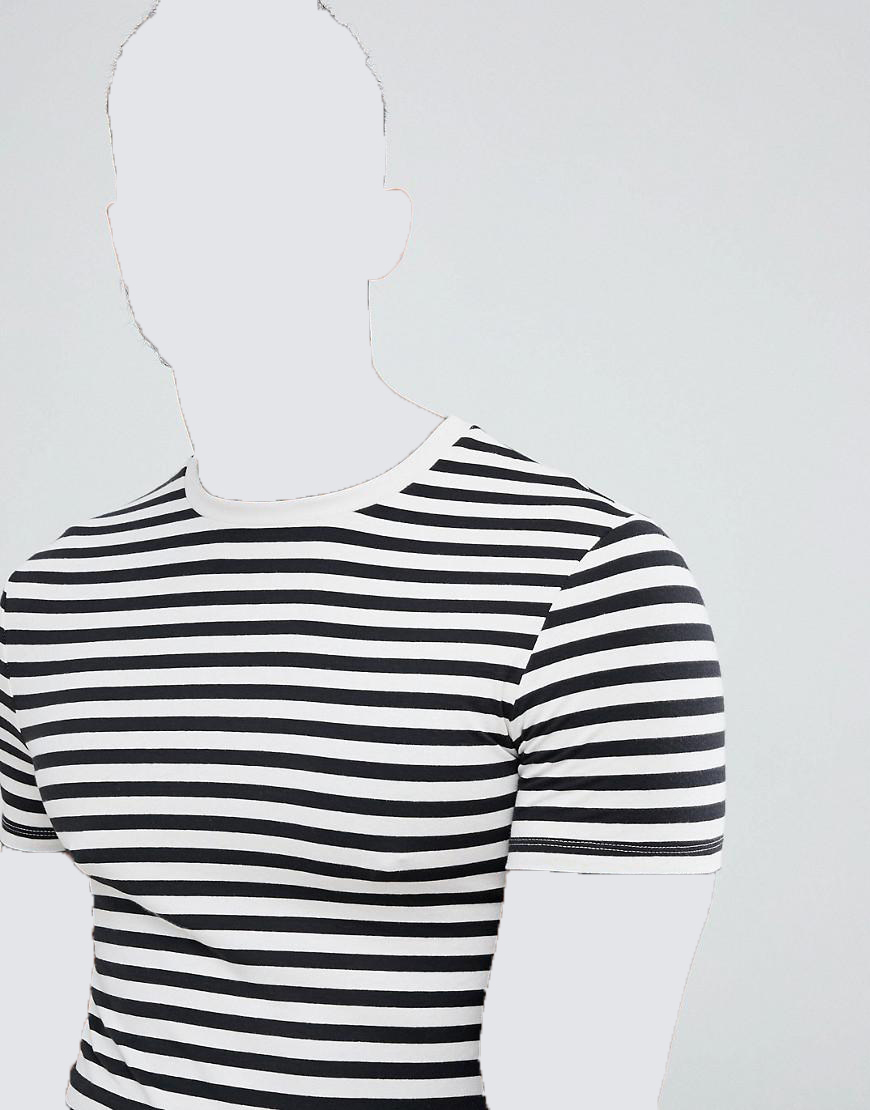teeshirt: (1, 401, 776, 1110)
